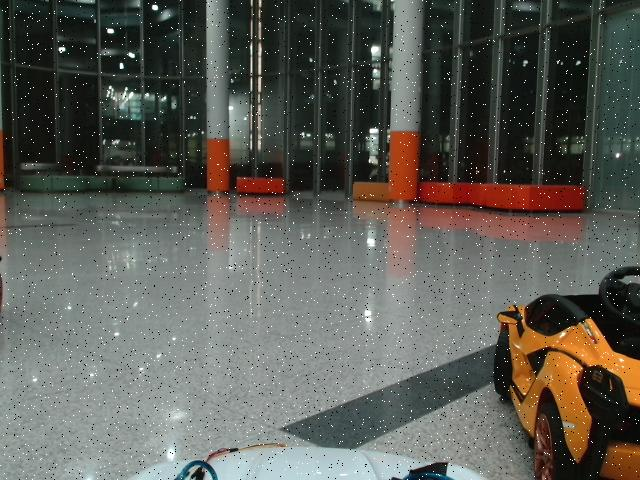car: (495, 267, 640, 480)
